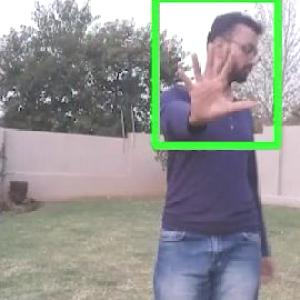follow_hand: (174, 40, 262, 126)
